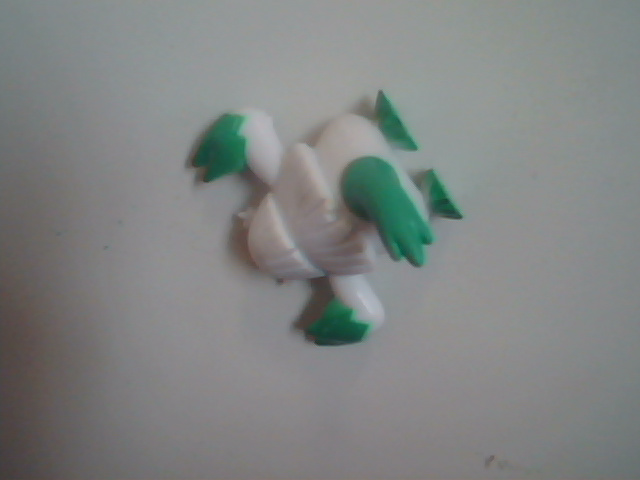abomasnow: (154, 53, 523, 391)
